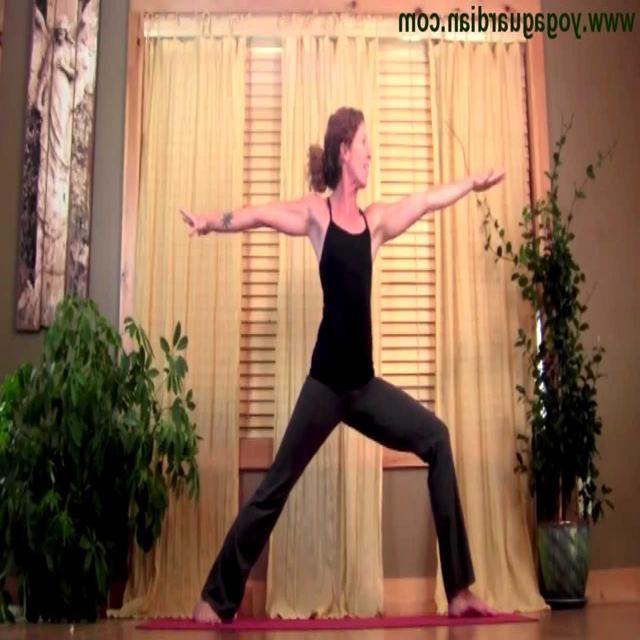Warrior_II: (171, 104, 515, 627)
